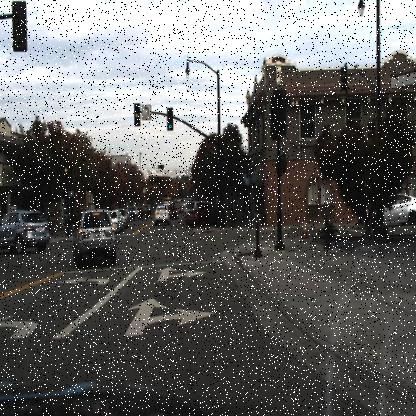car: (71, 207, 116, 265), (1, 209, 50, 257), (361, 192, 416, 226), (184, 206, 217, 226), (154, 204, 170, 224), (111, 210, 124, 233), (168, 204, 178, 222), (121, 210, 128, 229)
trafficLight: (61, 160, 68, 182), (134, 101, 140, 125)
trafficLight-Green: (167, 106, 172, 128)
